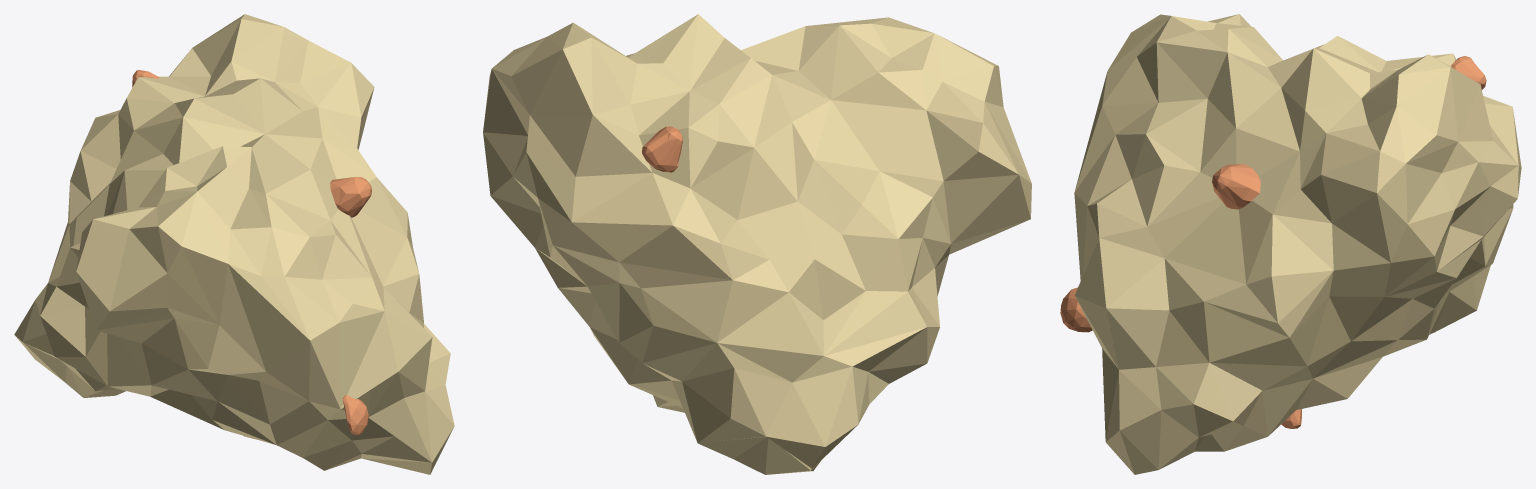
File: StoneOre (8).fbx
3 views of the same model, side by side, from view 1: azimuth 30°, elevation 25°; view 2: azimuth 150°, elevation 25°; view 3: azimuth 270°, elevation 25° (orthographic). The views are drawn at different scales.
Visible parts, largest first — view 1: Asteroid295; view 2: Asteroid295; view 3: Asteroid295.
Boxes of the visible parts, x1,y1,x2,y2 form: Asteroid295: (14, 14, 454, 474); Asteroid295: (483, 14, 1031, 474); Asteroid295: (1060, 14, 1521, 474).
Bounding box in the file's own units: 505 × 482 × 511.
